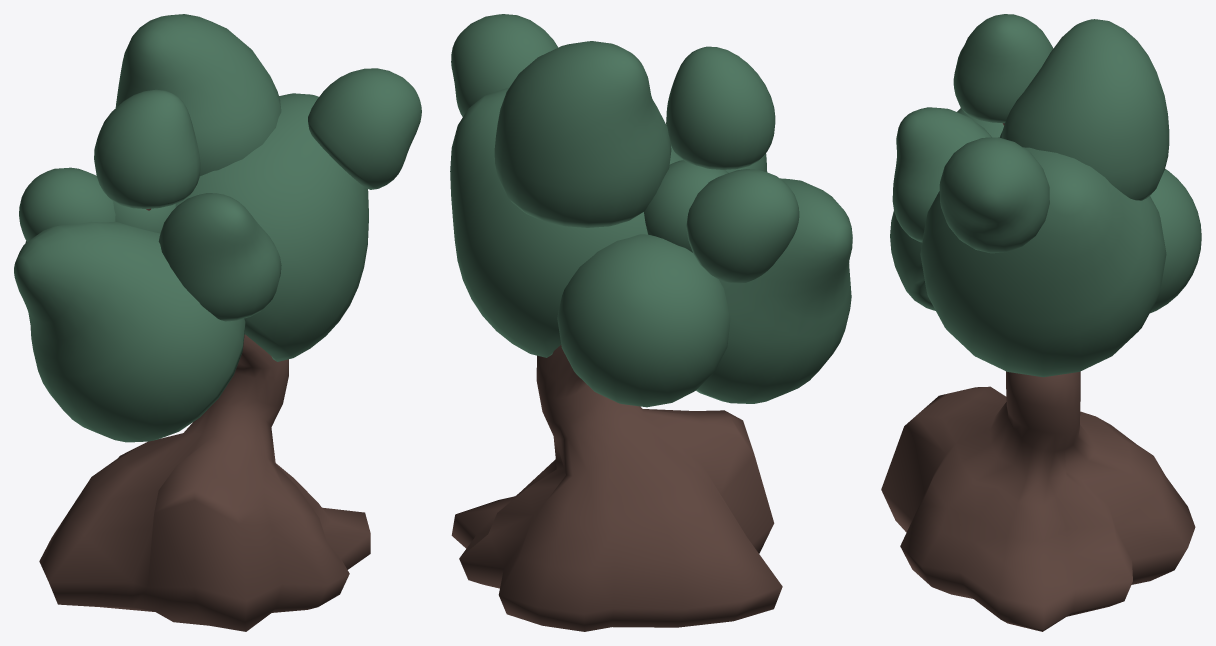
The model's file is sm_tree_02.fbx.
The picture shows the model from 3 angles, left to right: view 1: azimuth 30°, elevation 25°; view 2: azimuth 150°, elevation 25°; view 3: azimuth 270°, elevation 25°; orthographic projection. The views are drawn at different scales.
Parts seen in each view (by area): view 1: sm_tree_02; view 2: sm_tree_02; view 3: sm_tree_02.
Boxes of the visible parts, x1=… form: sm_tree_02: x1=14, y1=14, x2=421, y2=631; sm_tree_02: x1=450, y1=14, x2=852, y2=631; sm_tree_02: x1=881, y1=14, x2=1201, y2=631.
Size of the model in its own units: 8.55 by 11.45 by 6.25.
